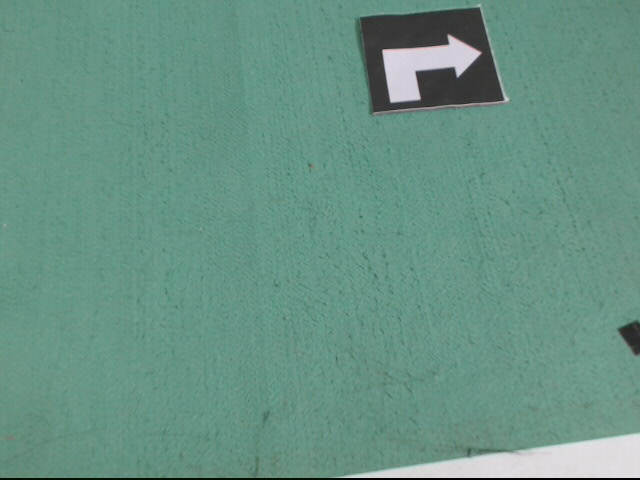right: (360, 8, 509, 115)
